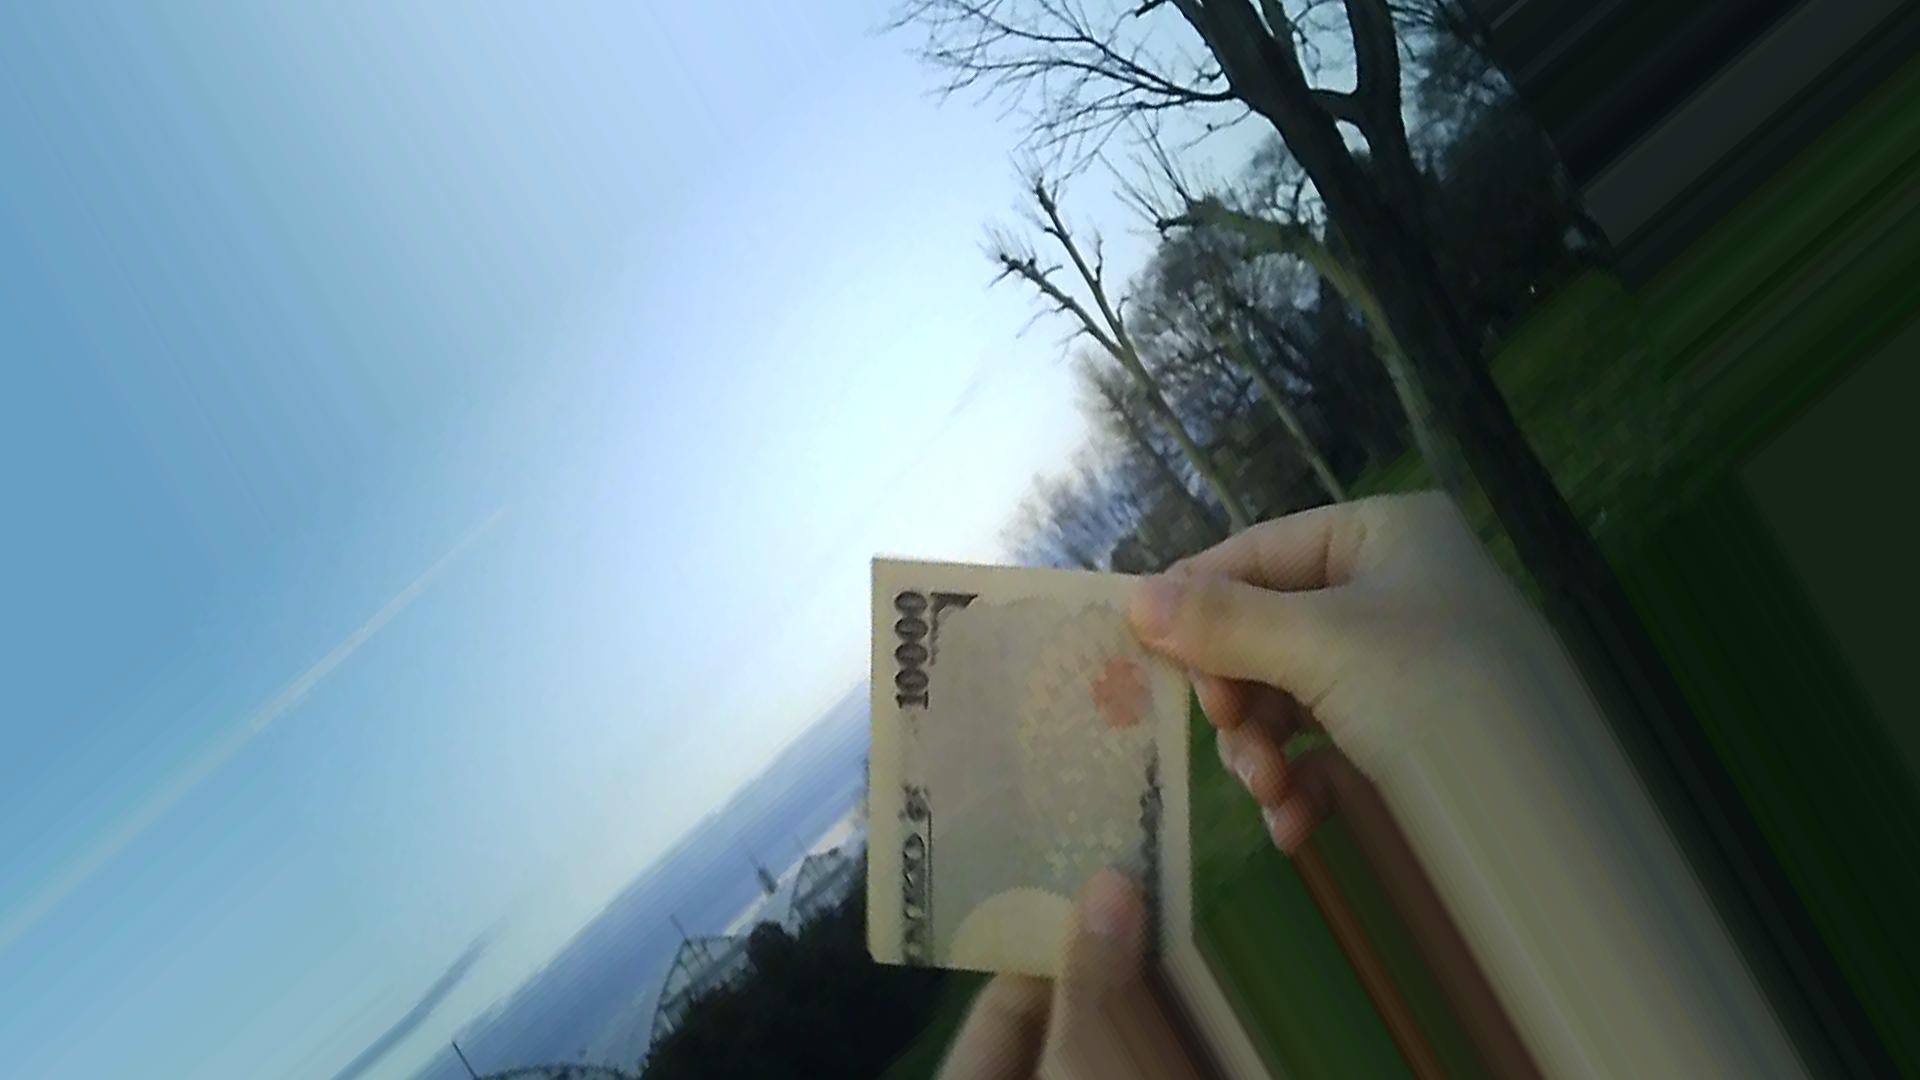10,000 Yen: (847, 547, 1197, 1000)
